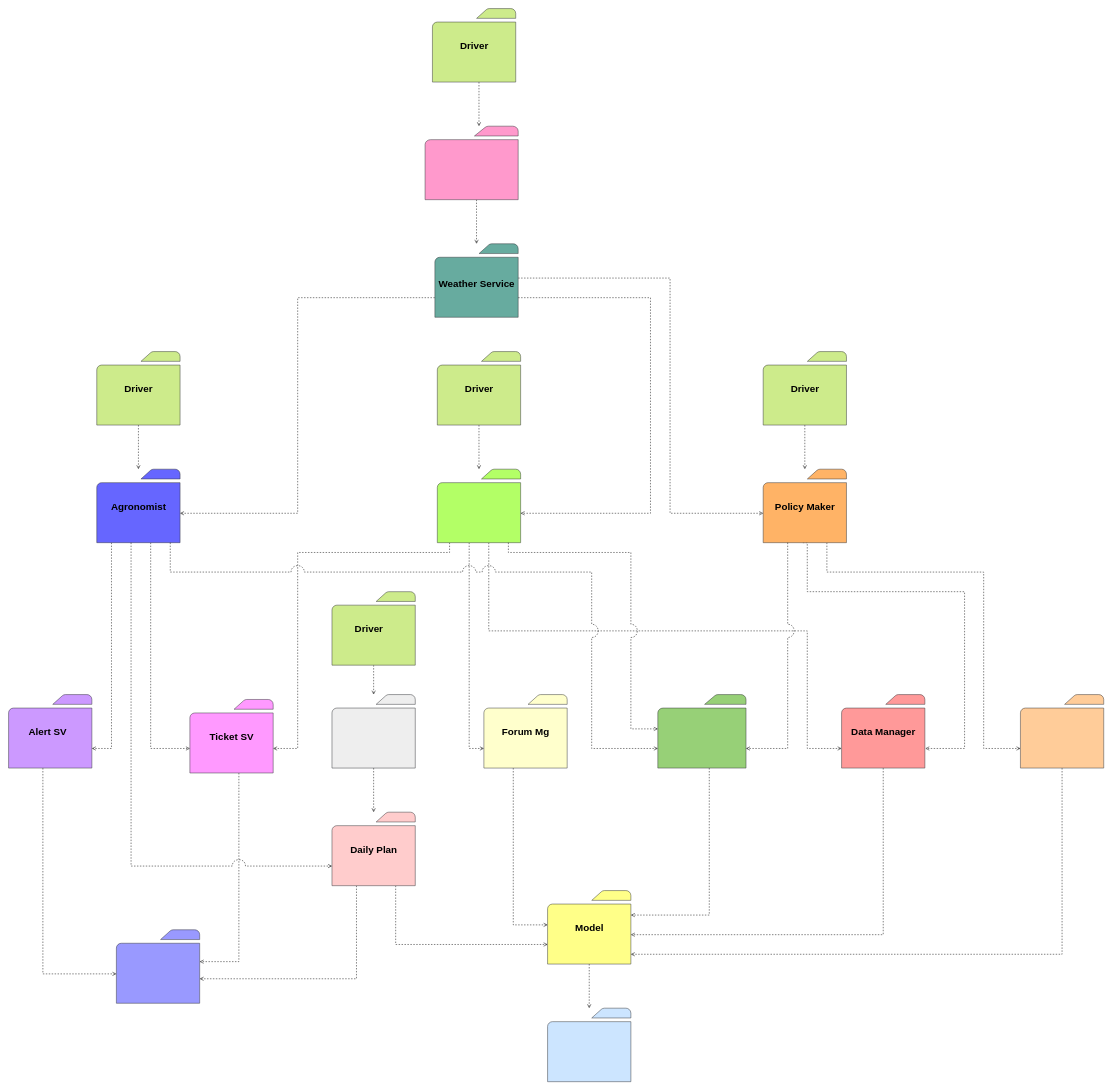
Image size: 1112x1090. Some labels were removed from this diagram. The shapes that lost their labels are listed below. From the top down, each one's centre as x and y in pixels, then its label:
[471,163]: Weather Provider
[479,506]: Farmer
[373,731]: Calendar API
[701,731]: Authentication SV
[1062,731]: Report Service
[158,966]: Notiication SV
[589,1045]: DBMS
